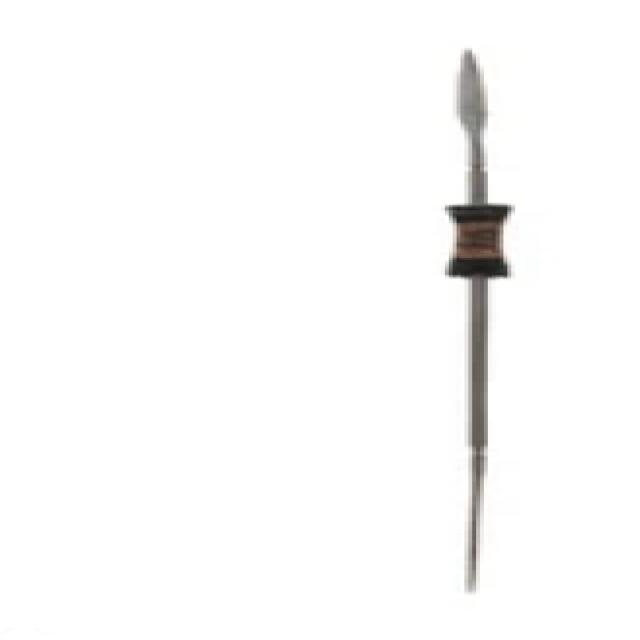spear: (400, 30, 550, 599)
